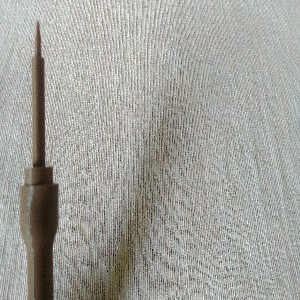solder: (17, 20, 60, 300)
